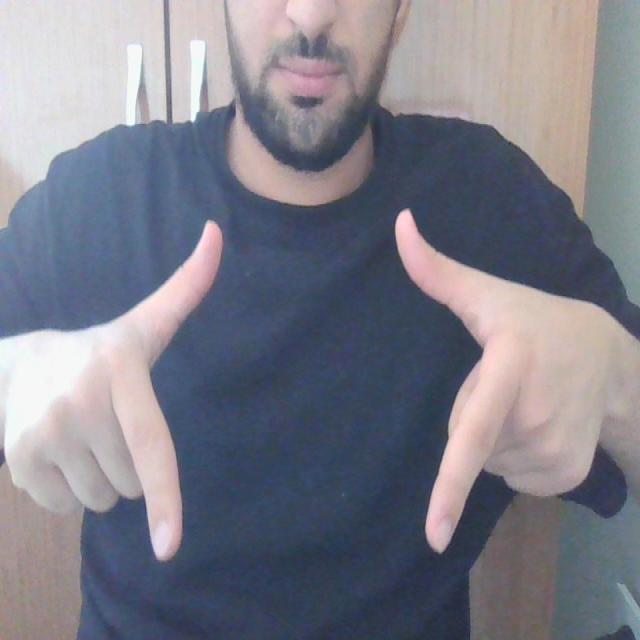Nerede: (112, 195, 527, 568)
